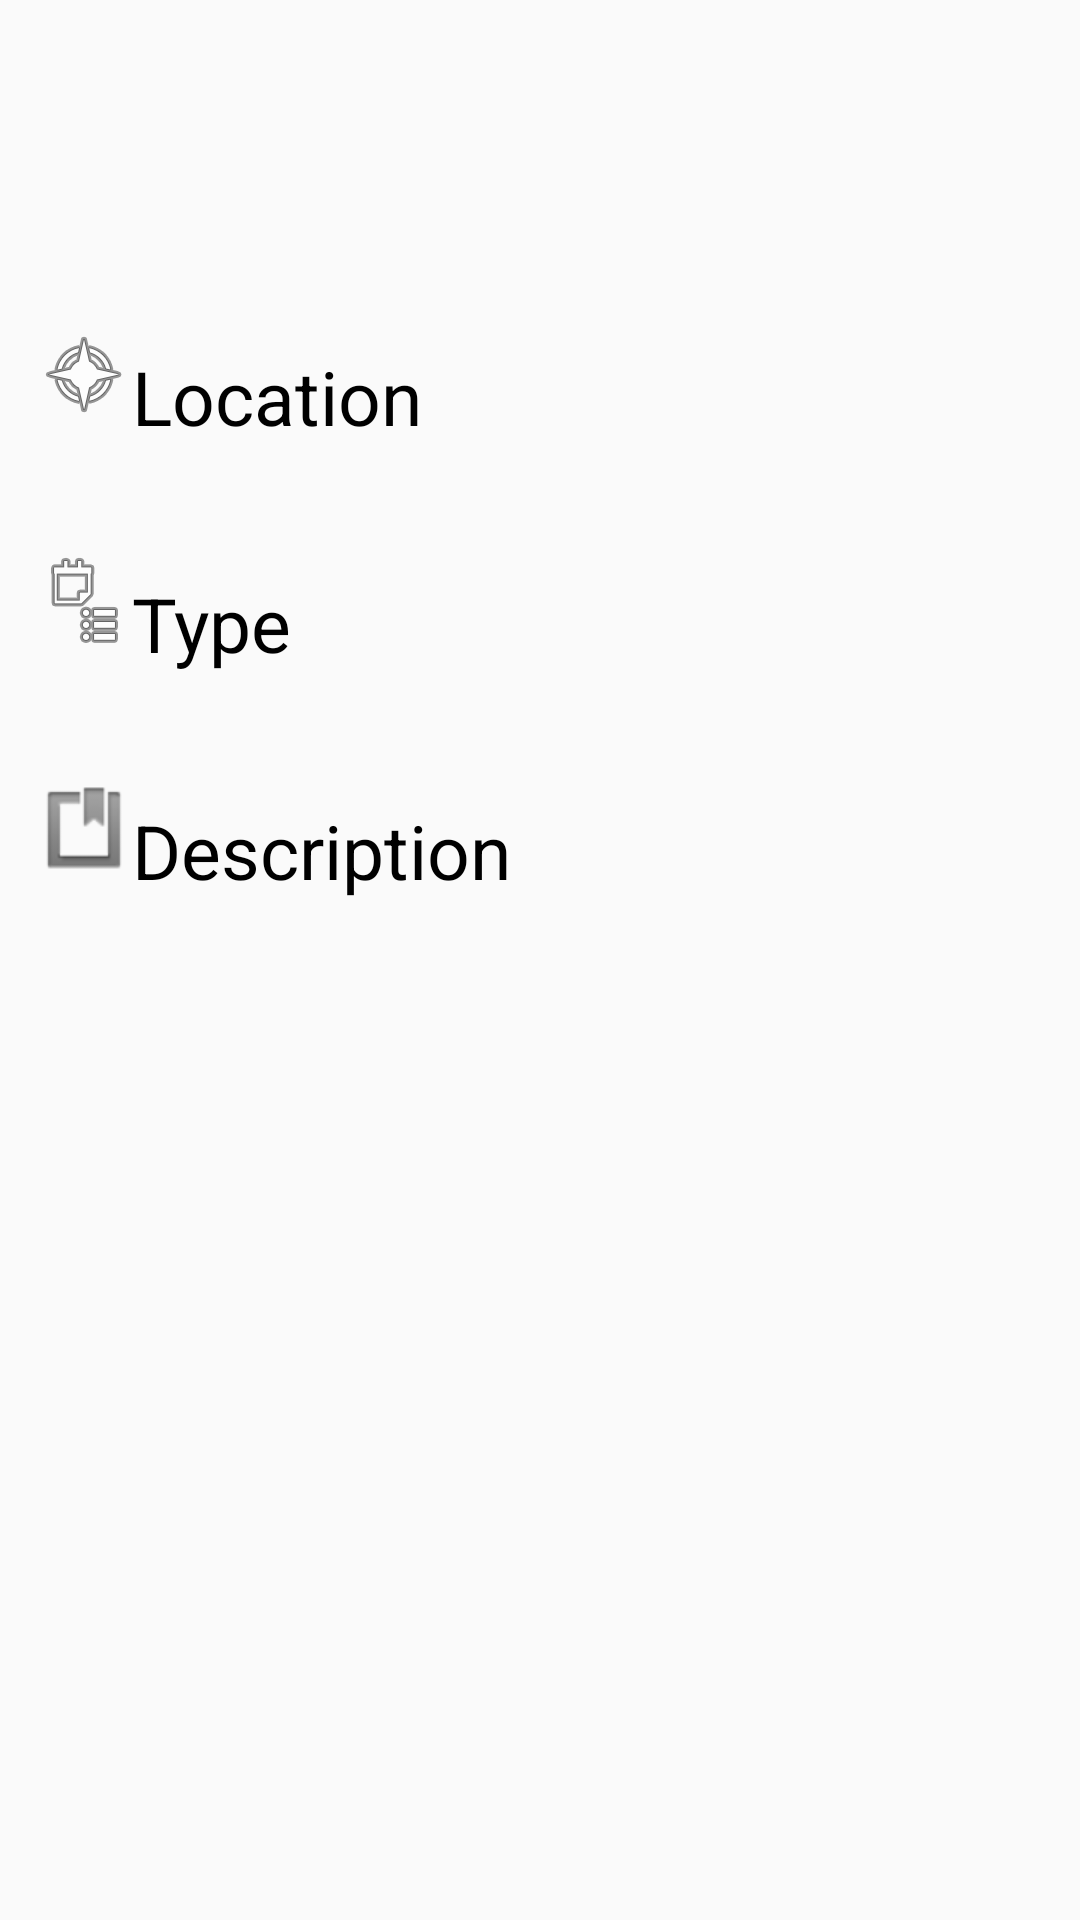

Where icons sit on this 1080px x 1920px app screen, as region(x1, y1, x2, y2):
agenda: region(51, 558, 118, 643)
compass: region(46, 337, 122, 412)
